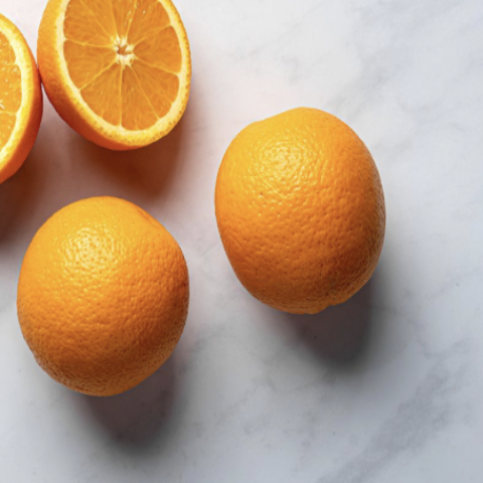orange: (198, 103, 394, 319), (1, 191, 202, 393)
